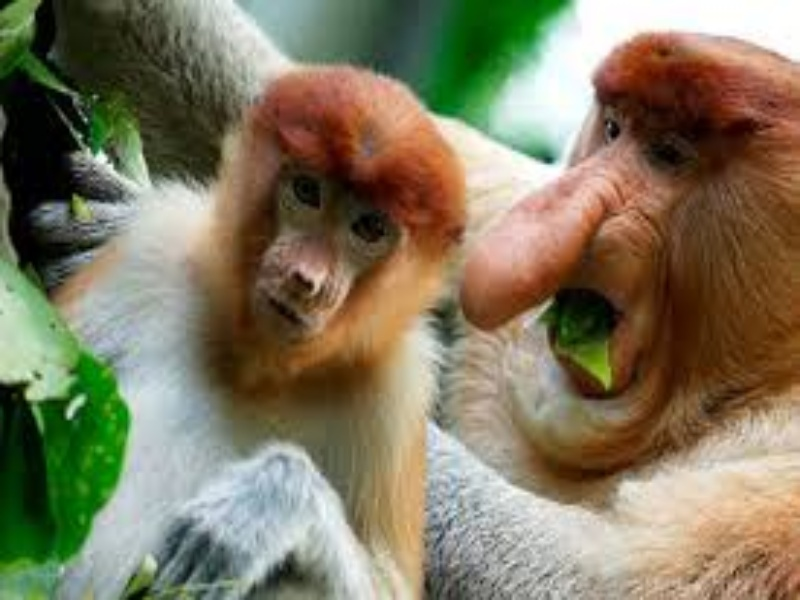monkey: (54, 25, 785, 583)
